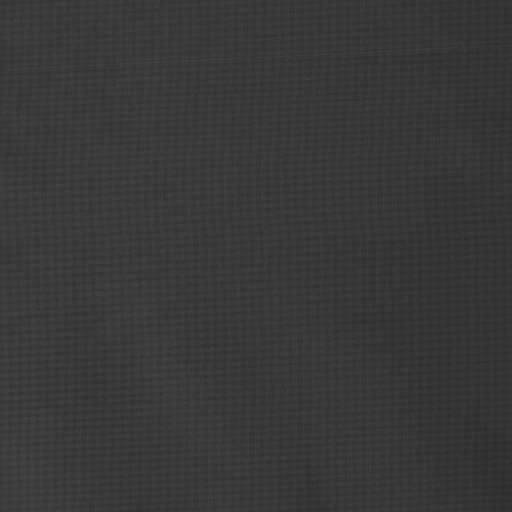defect: (3, 45, 512, 75)
